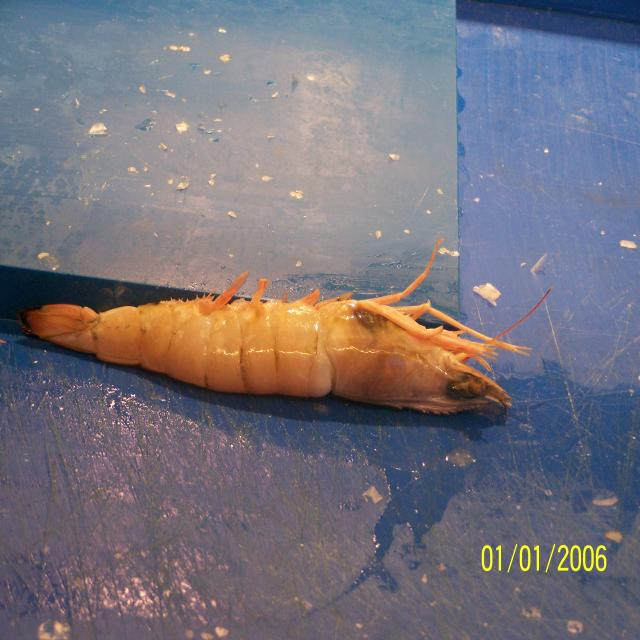Shrimp-karides-: (19, 282, 527, 417)
